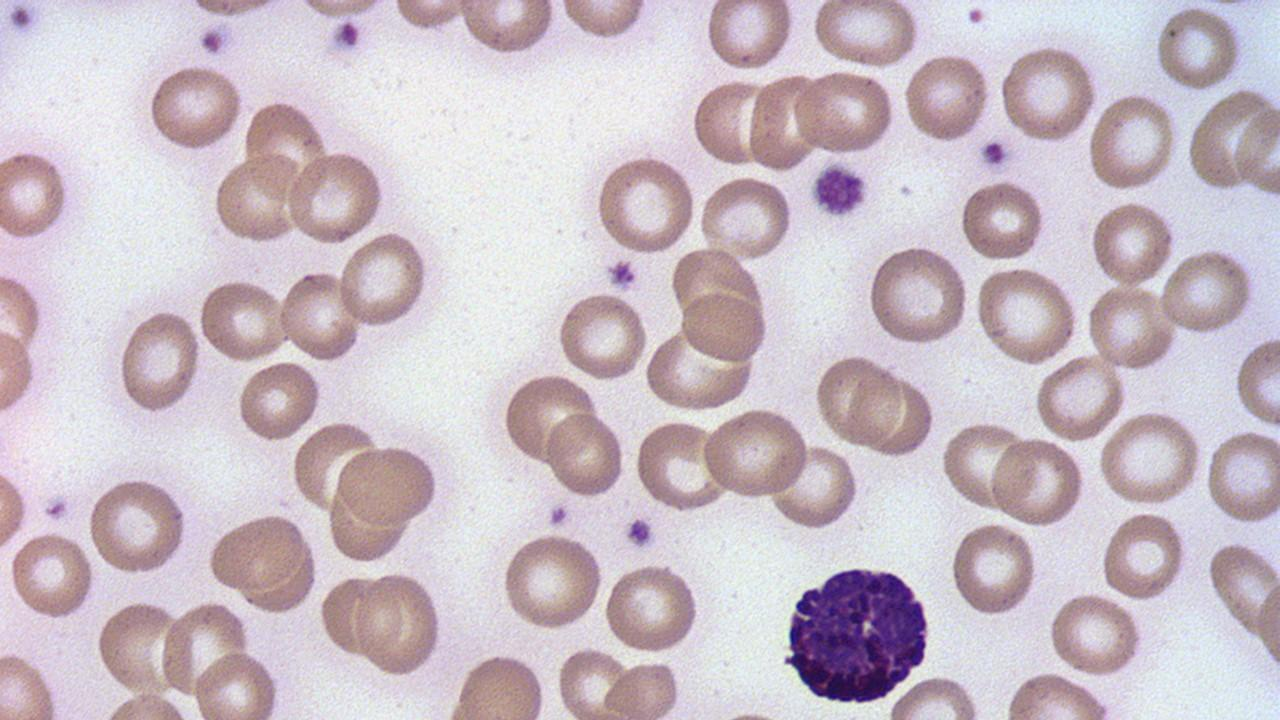Platelets: (808, 161, 872, 218), (978, 137, 1014, 170), (330, 20, 363, 54), (606, 258, 638, 291), (626, 516, 656, 550)
RBC: (864, 242, 972, 350), (499, 528, 606, 634), (974, 264, 1080, 367), (998, 42, 1102, 145), (594, 154, 698, 256), (702, 406, 810, 504), (286, 146, 388, 248), (85, 475, 188, 576), (1099, 411, 1203, 508), (338, 228, 432, 332), (116, 305, 203, 417), (602, 559, 702, 655), (641, 329, 755, 413), (356, 570, 443, 679), (1087, 92, 1179, 194), (502, 371, 598, 468), (633, 415, 728, 513), (241, 100, 327, 208), (160, 599, 250, 701), (337, 441, 442, 528), (990, 434, 1085, 530), (146, 61, 244, 154), (792, 70, 896, 156), (697, 173, 794, 264), (290, 418, 378, 518), (950, 520, 1038, 620), (1188, 88, 1270, 195), (557, 288, 650, 382), (1085, 282, 1179, 374), (213, 151, 304, 246), (1159, 246, 1257, 334), (96, 598, 182, 698), (1048, 590, 1144, 678), (208, 512, 311, 594), (902, 50, 990, 145), (939, 419, 1029, 511), (9, 528, 96, 622), (196, 277, 287, 366), (814, 352, 900, 446), (1033, 356, 1127, 442), (1100, 508, 1186, 602), (278, 268, 362, 364), (1155, 5, 1245, 94), (770, 442, 858, 533), (846, 366, 934, 456), (1088, 199, 1176, 288), (690, 76, 772, 170), (746, 73, 822, 173), (1204, 426, 1280, 526), (812, 0, 922, 69), (960, 176, 1046, 264), (545, 409, 626, 500), (1, 144, 73, 246), (237, 357, 322, 443), (1206, 539, 1280, 637), (678, 289, 772, 364), (554, 641, 640, 720), (704, 0, 796, 73), (450, 651, 550, 717), (192, 648, 283, 720), (458, 0, 559, 60), (318, 572, 383, 658), (602, 656, 686, 718), (1231, 104, 1279, 200), (0, 648, 61, 718), (1234, 334, 1280, 426), (558, 1, 651, 46), (0, 268, 44, 359), (0, 325, 38, 418), (0, 456, 29, 566), (388, 0, 477, 34), (1254, 570, 1280, 678)
WBC: (774, 560, 940, 707)
